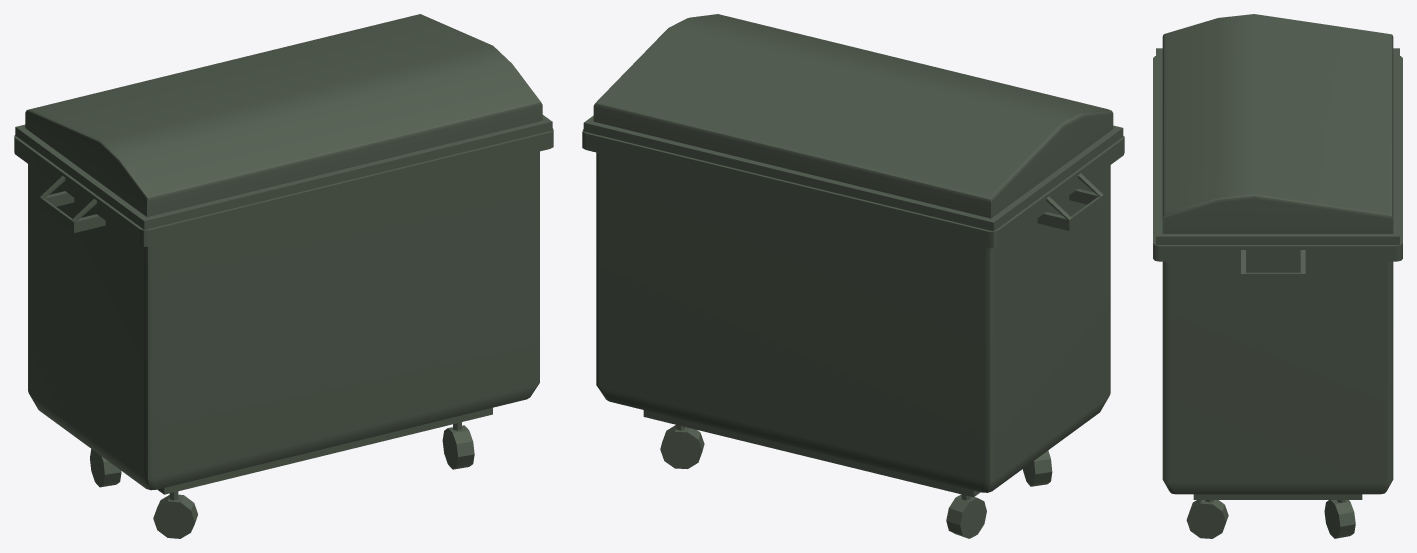
The model's file is benne.fbx.
The picture shows the model from 3 angles, left to right: view 1: azimuth 30°, elevation 25°; view 2: azimuth 150°, elevation 25°; view 3: azimuth 270°, elevation 25°; orthographic projection. The views are drawn at different scales.
Parts seen in each view (by area): view 1: benne02:benne; view 2: benne02:benne; view 3: benne02:benne.
Part boxes in pixels (x1=…): benne02:benne: x1=14, y1=14, x2=553, y2=538; benne02:benne: x1=582, y1=14, x2=1124, y2=538; benne02:benne: x1=1153, y1=14, x2=1402, y2=538.
Bounding box in the file's own units: 173 × 141 × 86.67.
Materials: 1 (1 with a texture image).
